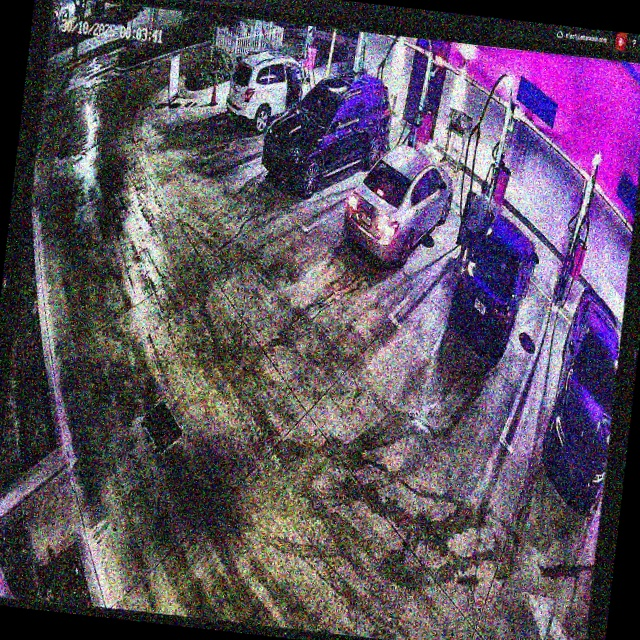Car: (259, 63, 395, 197), (445, 194, 547, 362), (343, 138, 458, 272)
